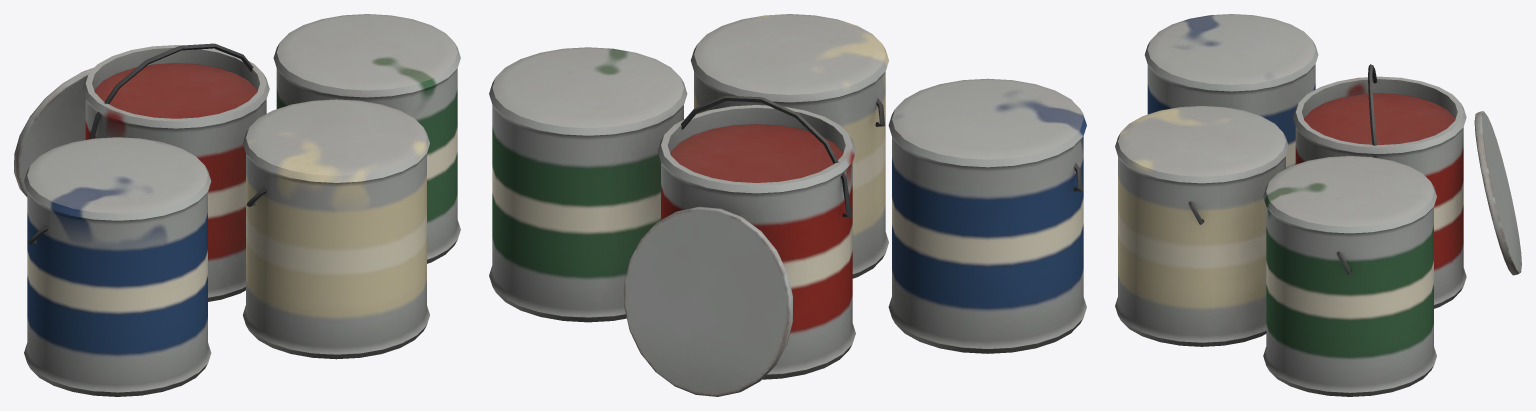
The model's file is paint_cans.glb.
The picture shows the model from 3 angles, left to right: view 1: azimuth 30°, elevation 25°; view 2: azimuth 150°, elevation 25°; view 3: azimuth 270°, elevation 25°; orthographic projection. The views are drawn at different scales.
Parts seen in each view (by area): view 1: paint_cans; view 2: paint_cans; view 3: paint_cans.
Boxes of the visible parts, box(x1,y1,x2,y2) form: paint_cans: box(14, 14, 460, 396); paint_cans: box(489, 14, 1086, 396); paint_cans: box(1115, 14, 1521, 396).
Bounding box in the file's own units: 0.535 × 0.233 × 0.412.
Materials: 1 (1 with a texture image).
